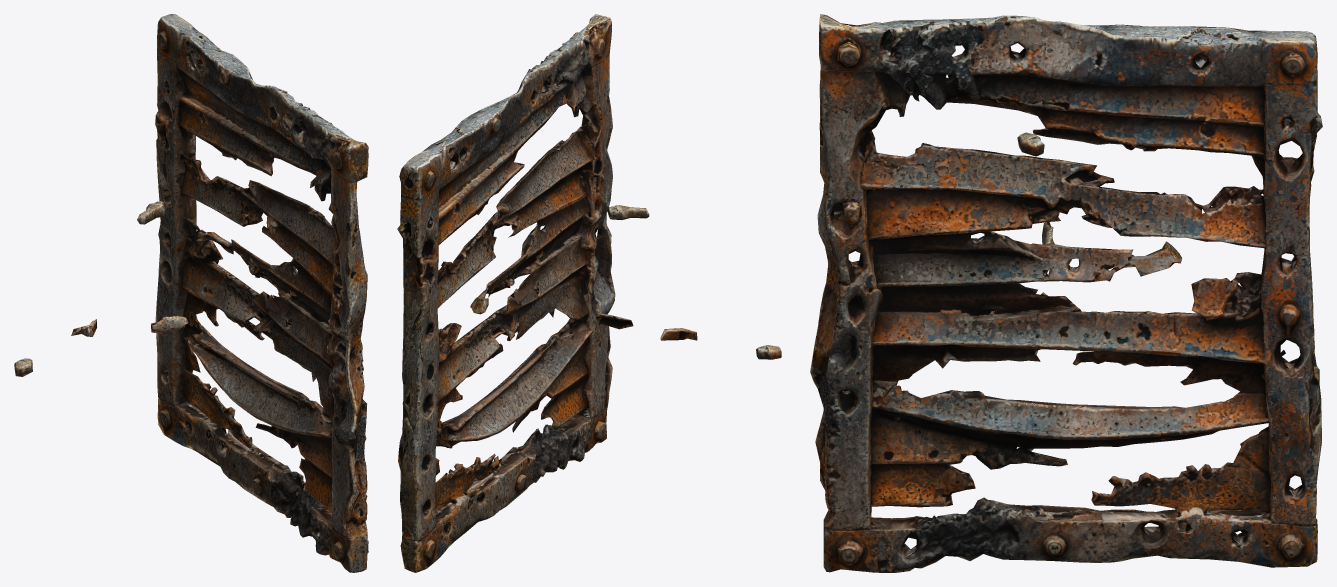
Rendered from BK_VentCover_Wrecked.fbx.
3 renders of one model, left to right at view 1: azimuth 30°, elevation 25°; view 2: azimuth 150°, elevation 25°; view 3: azimuth 270°, elevation 25°, orthographic. The views are drawn at different scales.
Visible parts, largest first — view 1: texture_mapping; view 2: texture_mapping; view 3: texture_mapping.
Boxes of the visible parts, x1,y1,x2,y2 form: texture_mapping: (14,14,368,572); texture_mapping: (397,14,781,572); texture_mapping: (810,14,1322,572).
Size of the model in its own units: 0.6804 by 0.8386 by 0.9917.
1 material, 1 textured.
